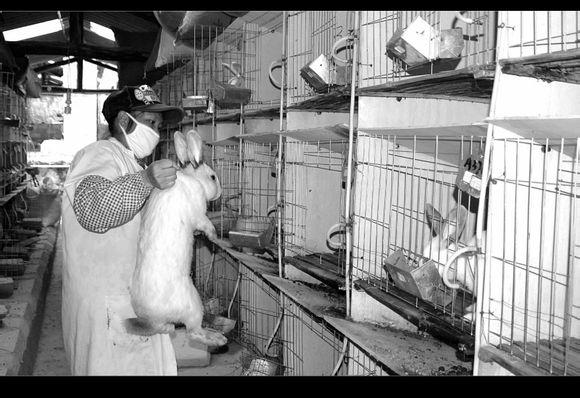WRONG: (120, 115, 164, 159)
